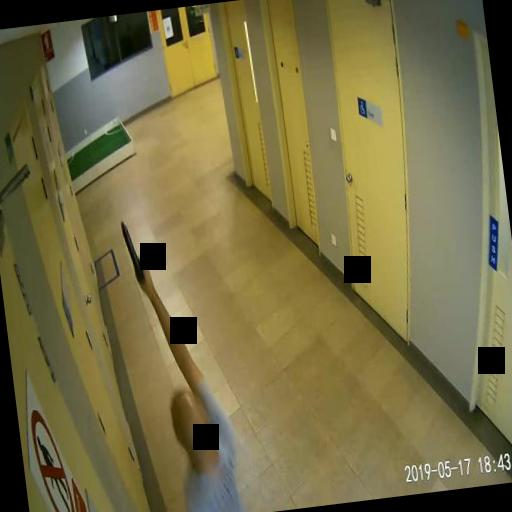Handgun: (118, 218, 146, 286)
